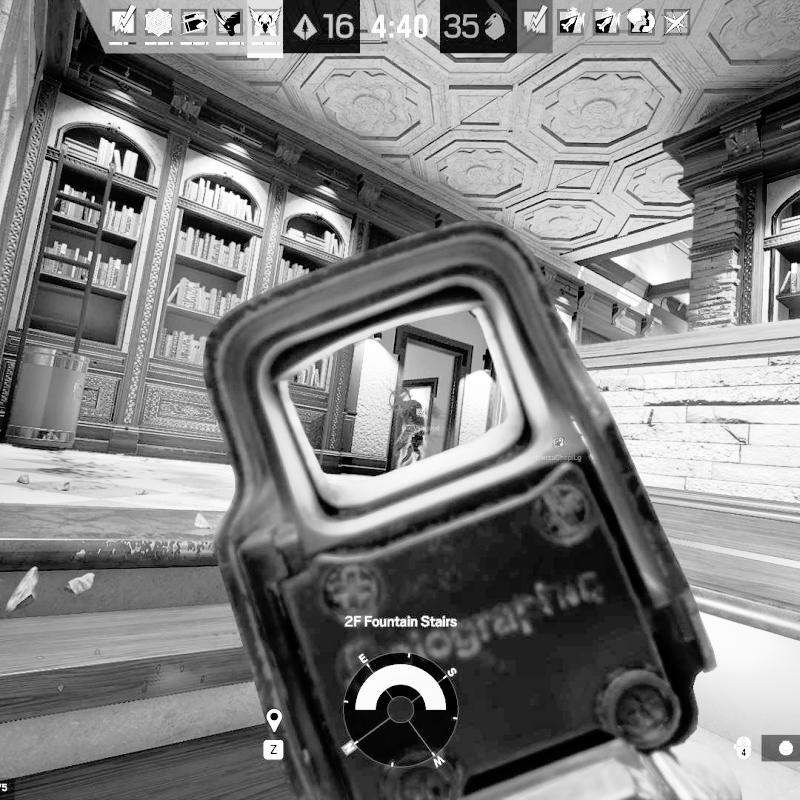Character: (390, 390, 423, 468)
Friend_label: (534, 436, 582, 462), (401, 406, 441, 431)
Head: (400, 390, 411, 400)
